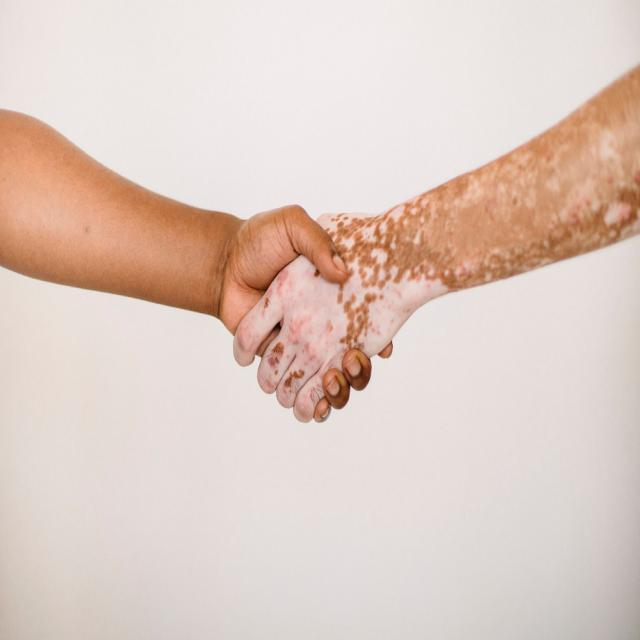vitiligo: (256, 69, 632, 414)
